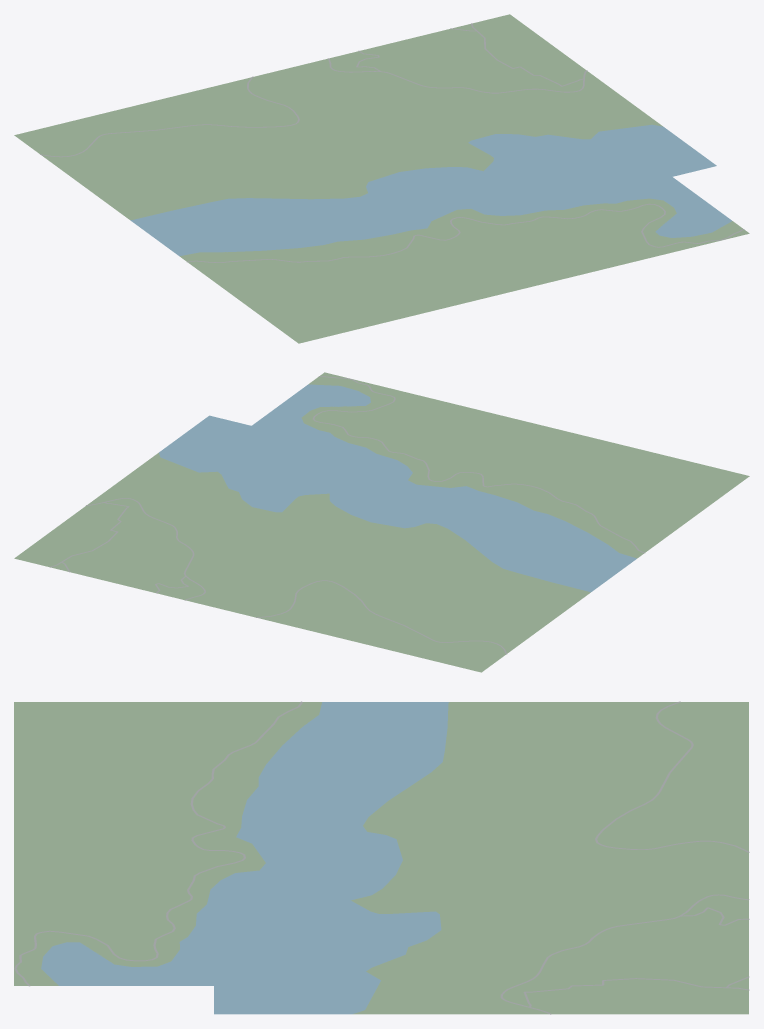
File: -1_4-known-fine.glb
3 views of the same model, one above another, from view 1: azimuth 30°, elevation 25°; view 2: azimuth 150°, elevation 25°; view 3: azimuth 270°, elevation 25° (orthographic). The views are drawn at different scales.
Size of the model in its own units: 1003 by 0.1 by 996.
